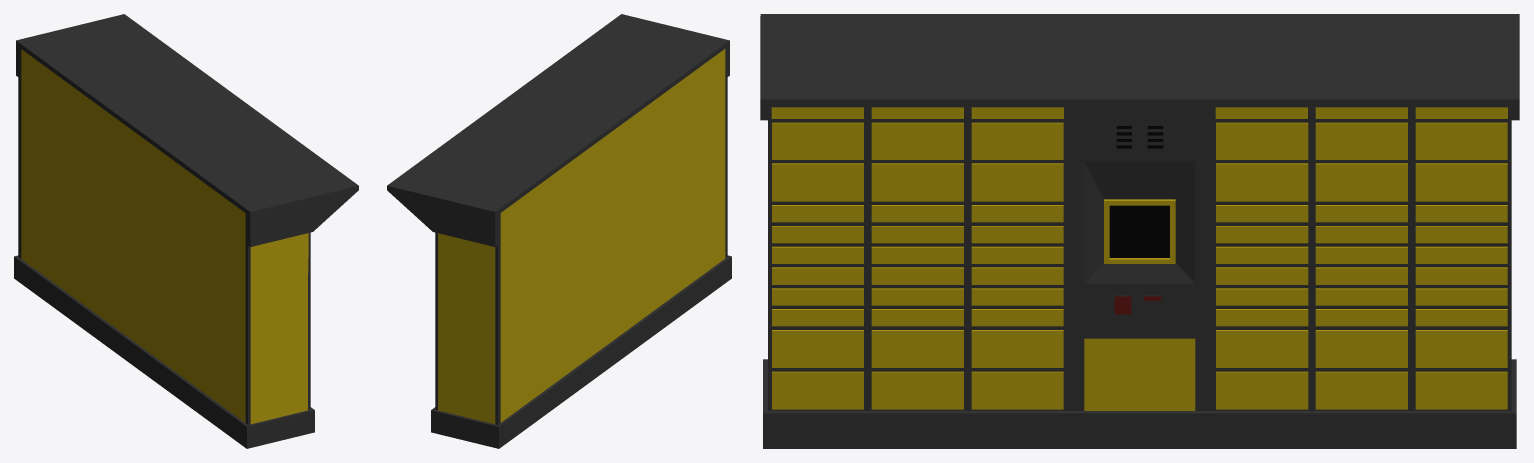
File: paczkomat.fbx
3 views of the same model, side by side, from view 1: azimuth 30°, elevation 25°; view 2: azimuth 150°, elevation 25°; view 3: azimuth 270°, elevation 25° (orthographic). The views are drawn at different scales.
Visible parts, largest first — view 1: Cube; view 2: Cube; view 3: Cube.
Boxes of the visible parts, box(x1,y1,x2,y2) form: Cube: box(14, 14, 358, 448); Cube: box(387, 14, 731, 448); Cube: box(760, 14, 1519, 448).
Bounding box in the file's own units: 110 × 224 × 402.
